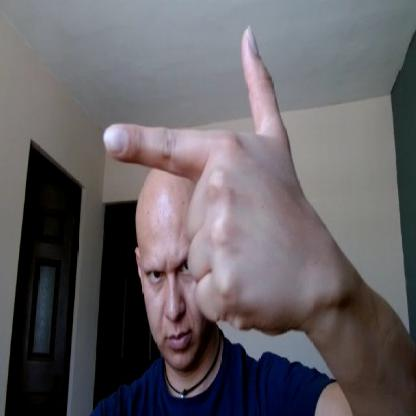G: (104, 25, 302, 336)
